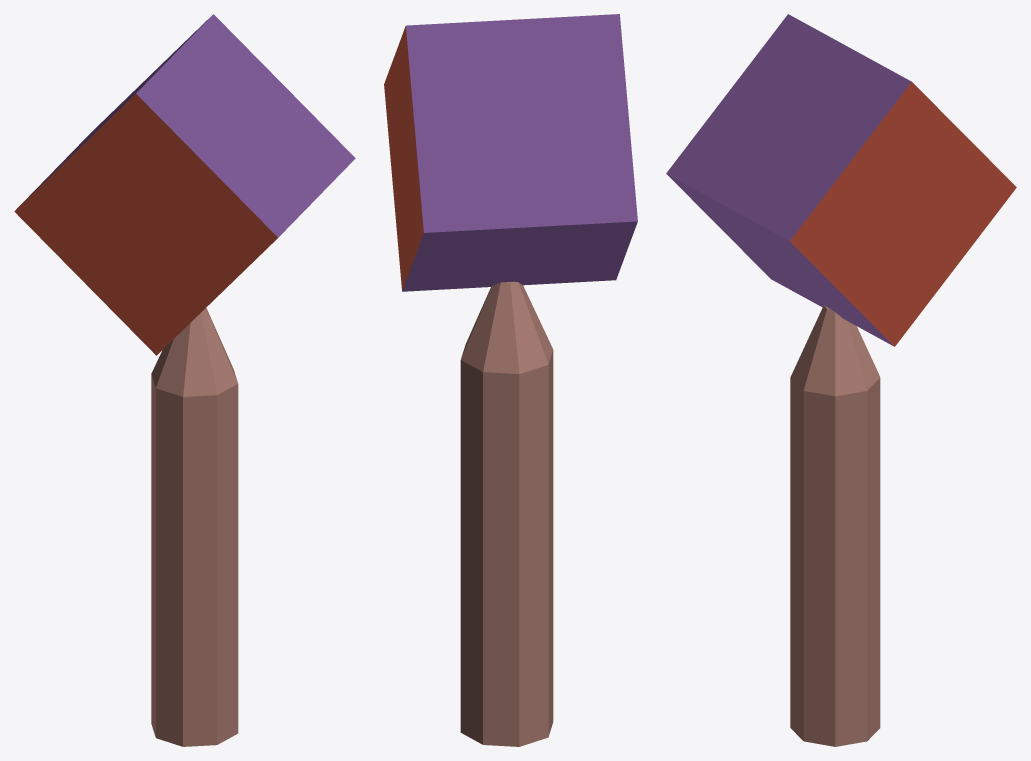
File: Tower03.fbx
3 views of the same model, side by side, from view 1: azimuth 30°, elevation 25°; view 2: azimuth 150°, elevation 25°; view 3: azimuth 270°, elevation 25° (orthographic). The views are drawn at different scales.
Visible parts, largest first — view 1: Cylinder.001, Cylinder; view 2: Cylinder.001, Cylinder; view 3: Cylinder.001, Cylinder.
Boxes of the visible parts, x1,y1,x2,y2 form: Cylinder.001: (14, 14, 355, 355); Cylinder: (151, 308, 238, 746); Cylinder.001: (384, 14, 637, 291); Cylinder: (460, 281, 553, 746); Cylinder.001: (666, 14, 1016, 346); Cylinder: (790, 305, 880, 746).
Bounding box in the file's own units: 745 × 1651 × 779.
